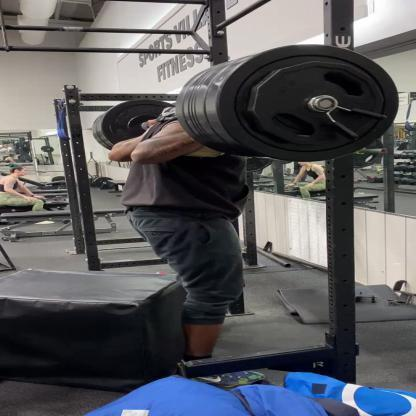Barbell: (315, 95, 341, 114)
